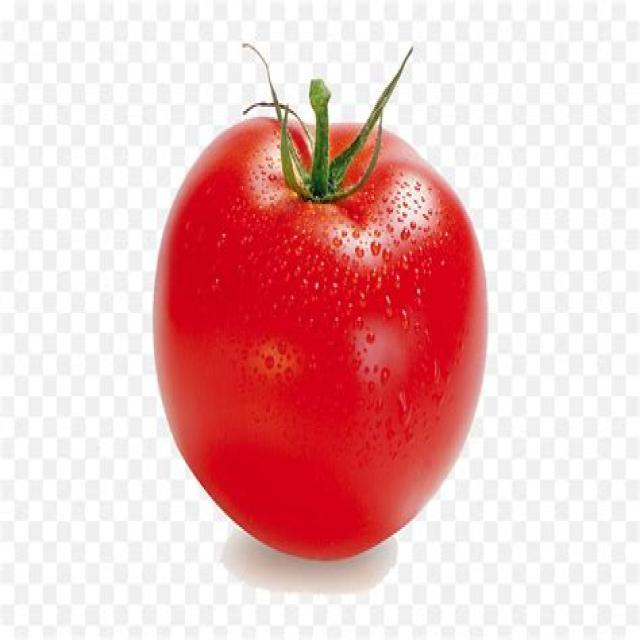Tomato: (151, 80, 490, 570)
